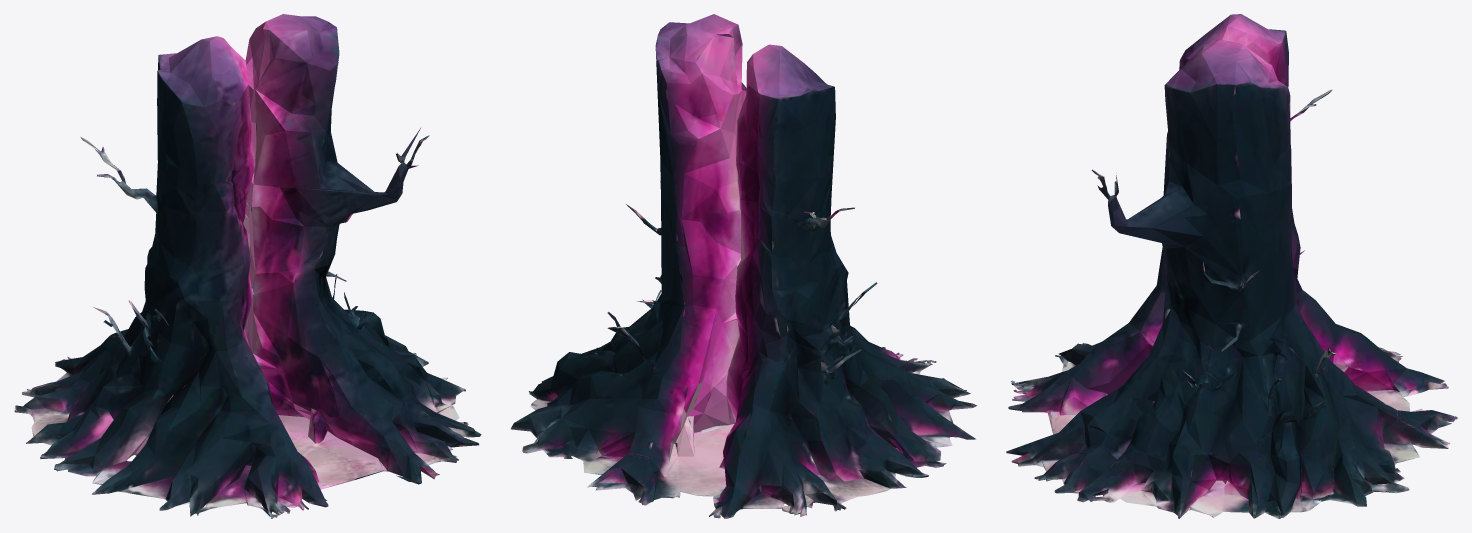
Rendered from yggdrasil-root-southwest.collider.glb.
3 renders of one model, left to right at view 1: azimuth 30°, elevation 25°; view 2: azimuth 150°, elevation 25°; view 3: azimuth 270°, elevation 25°, orthographic.
Parts seen in each view (by area): view 1: temp_mesh.ply; view 2: temp_mesh.ply; view 3: temp_mesh.ply.
Boxes of the visible parts, bbox=[...] form: temp_mesh.ply: bbox=[14, 14, 481, 518]; temp_mesh.ply: bbox=[511, 14, 976, 518]; temp_mesh.ply: bbox=[1006, 14, 1457, 518].
Bounding box in the file's own units: 1.97 × 1.88 × 1.95.
Materials: 1 (1 with a texture image).
